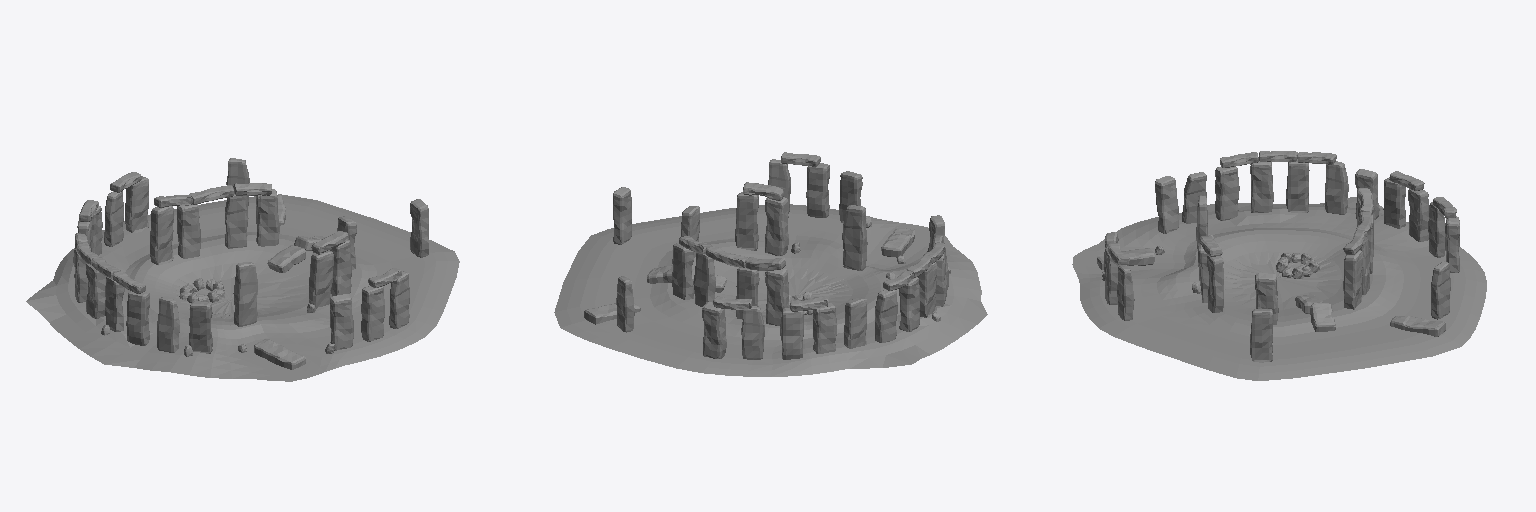
Rendered from Stonehenge.obj.
3 renders of one model, left to right at view 1: azimuth 30°, elevation 25°; view 2: azimuth 150°, elevation 25°; view 3: azimuth 270°, elevation 25°, orthographic.
Visible parts, largest first — view 1: floor, front_rocks, middle_rocks, back_rocks, rockLP020, far_back_stones, rockLP058; view 2: floor, back_rocks, front_rocks, middle_rocks, far_back_stones, rockLP020; view 3: floor, back_rocks, front_rocks, far_back_stones, middle_rocks, rockLP058, rockLP020.
Boxes of the visible parts, <box> form: floor: <box>26,194,459,381</box>; front_rocks: <box>113,231,409,369</box>; middle_rocks: <box>150,183,325,272</box>; back_rocks: <box>73,172,148,331</box>; rockLP020: <box>330,286,384,350</box>; far_back_stones: <box>226,158,428,269</box>; rockLP058: <box>179,278,224,302</box>; floor: <box>554,204,987,376</box>; back_rocks: <box>702,255,936,359</box>; front_rocks: <box>735,152,948,306</box>; middle_rocks: <box>647,236,789,325</box>; far_back_stones: <box>584,187,699,332</box>; rockLP020: <box>806,163,862,223</box>; floor: <box>1072,197,1486,380</box>; back_rocks: <box>1250,151,1459,272</box>; front_rocks: <box>1097,152,1258,320</box>; far_back_stones: <box>1250,261,1450,362</box>; middle_rocks: <box>1295,188,1373,331</box>; rockLP058: <box>1276,253,1319,278</box>; rockLP020: <box>1104,232,1119,304</box>.
Size of the model in its own units: 1470 by 304 by 1405.